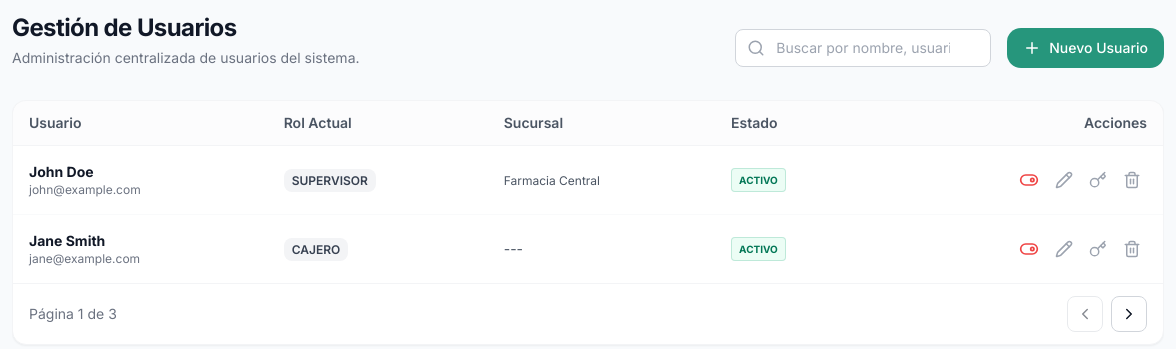
Test: UsuariosListClient › pagination prev/next via AJAX › fetches next page when next button is clicked
Click the button named "Siguiente página" at coordinates (1129, 314), box x1=1111 y1=296 x2=1147 y2=332
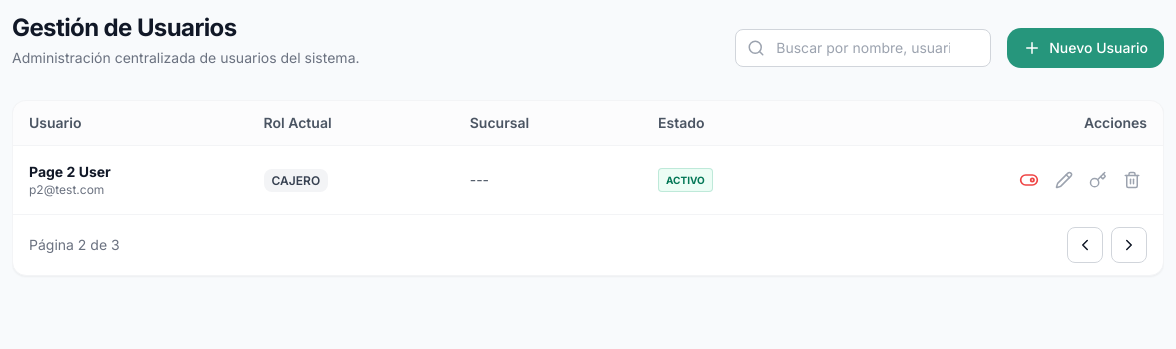
Result: the text "Page 2 User" is shown at x1=29 y1=163 x2=111 y2=180
Result: the text "Página 2 de 3" is shown at x1=29 y1=235 x2=120 y2=255
